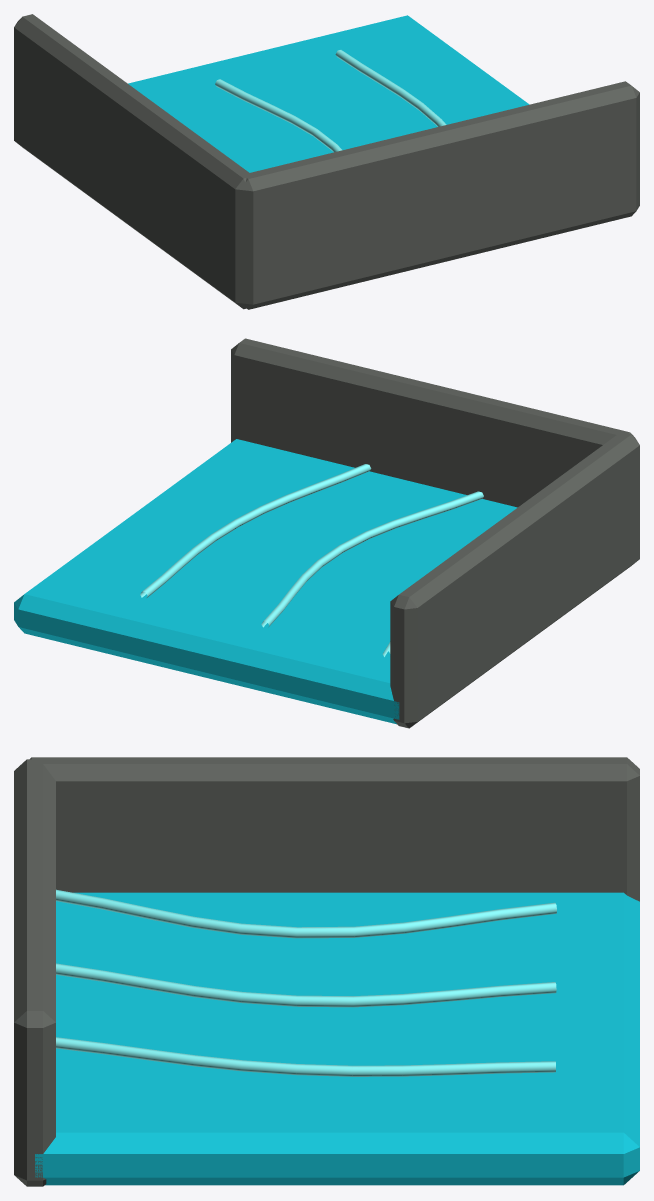
File: terrain-ice-27.glb
The picture shows the model from 3 angles, top to bottom: view 1: azimuth 30°, elevation 25°; view 2: azimuth 150°, elevation 25°; view 3: azimuth 270°, elevation 25°; orthographic projection. The views are drawn at different scales.
Parts seen in each view (by area): view 1: terrain-ice-27; view 2: terrain-ice-27; view 3: terrain-ice-27.
Part boxes in pixels (<box>): terrain-ice-27: <box>14,14,639,309</box>; terrain-ice-27: <box>14,338,639,728</box>; terrain-ice-27: <box>14,757,639,1186</box>.
Size of the model in its own units: 0.9675 by 0.3 by 0.9675.
